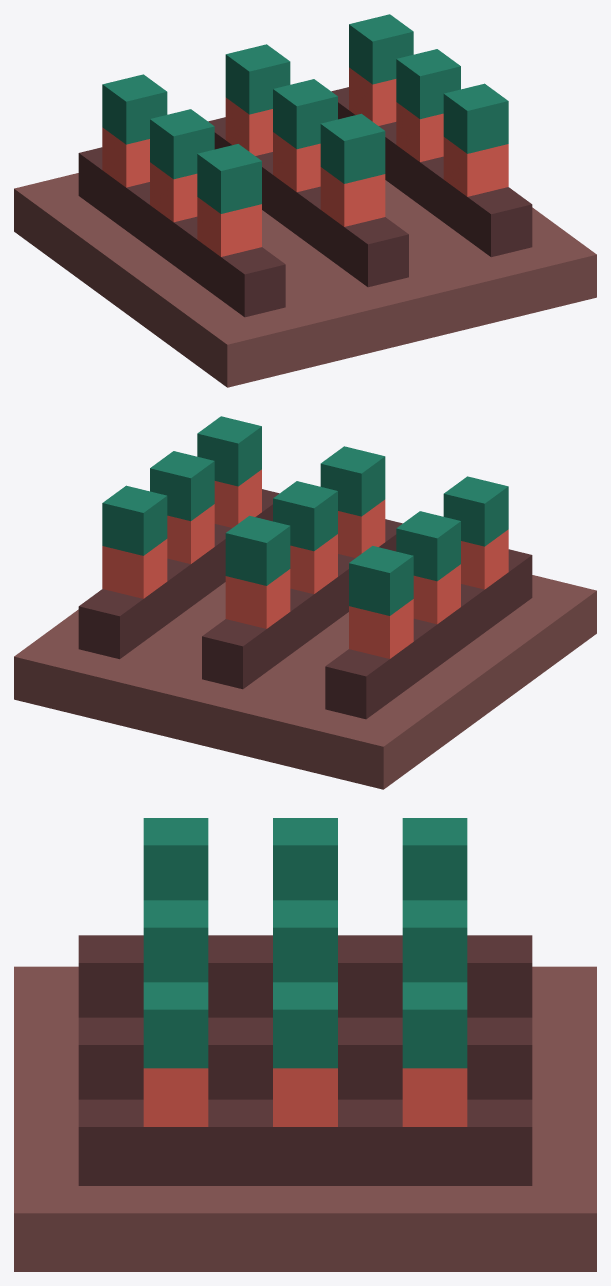
Rendered from Carrot 2.obj.
The picture shows the model from 3 angles, top to bottom: view 1: azimuth 30°, elevation 25°; view 2: azimuth 150°, elevation 25°; view 3: azimuth 270°, elevation 25°; orthographic projection. The views are drawn at different scales.
Size of the model in its own units: 0.9 by 0.4 by 0.9.
Materials: 1 (1 with a texture image).
